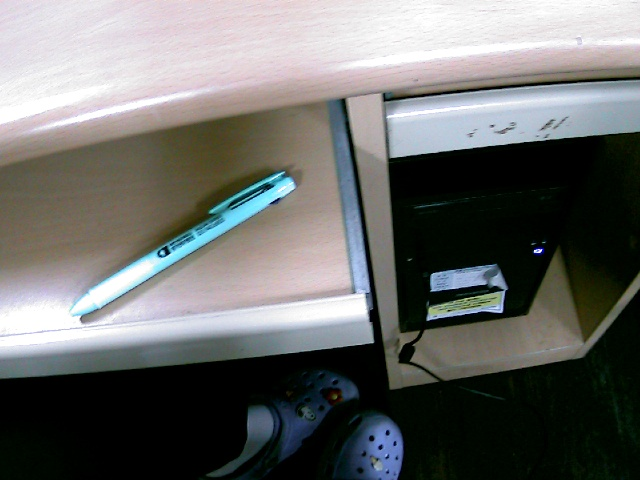pen: (70, 167, 300, 316)
